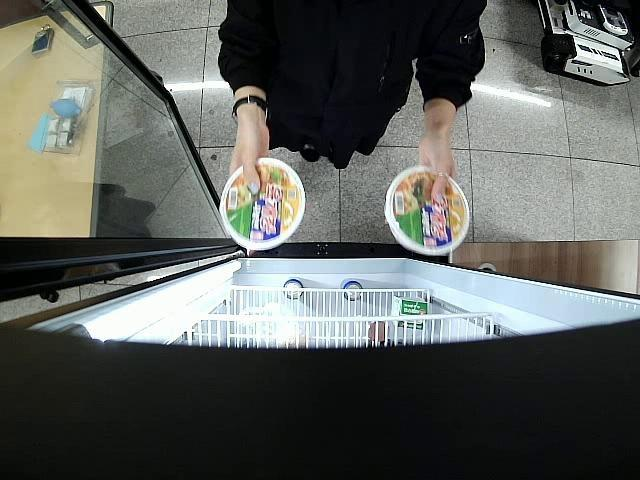09_yukGaeJang: (218, 158, 306, 249), (384, 166, 471, 255)
